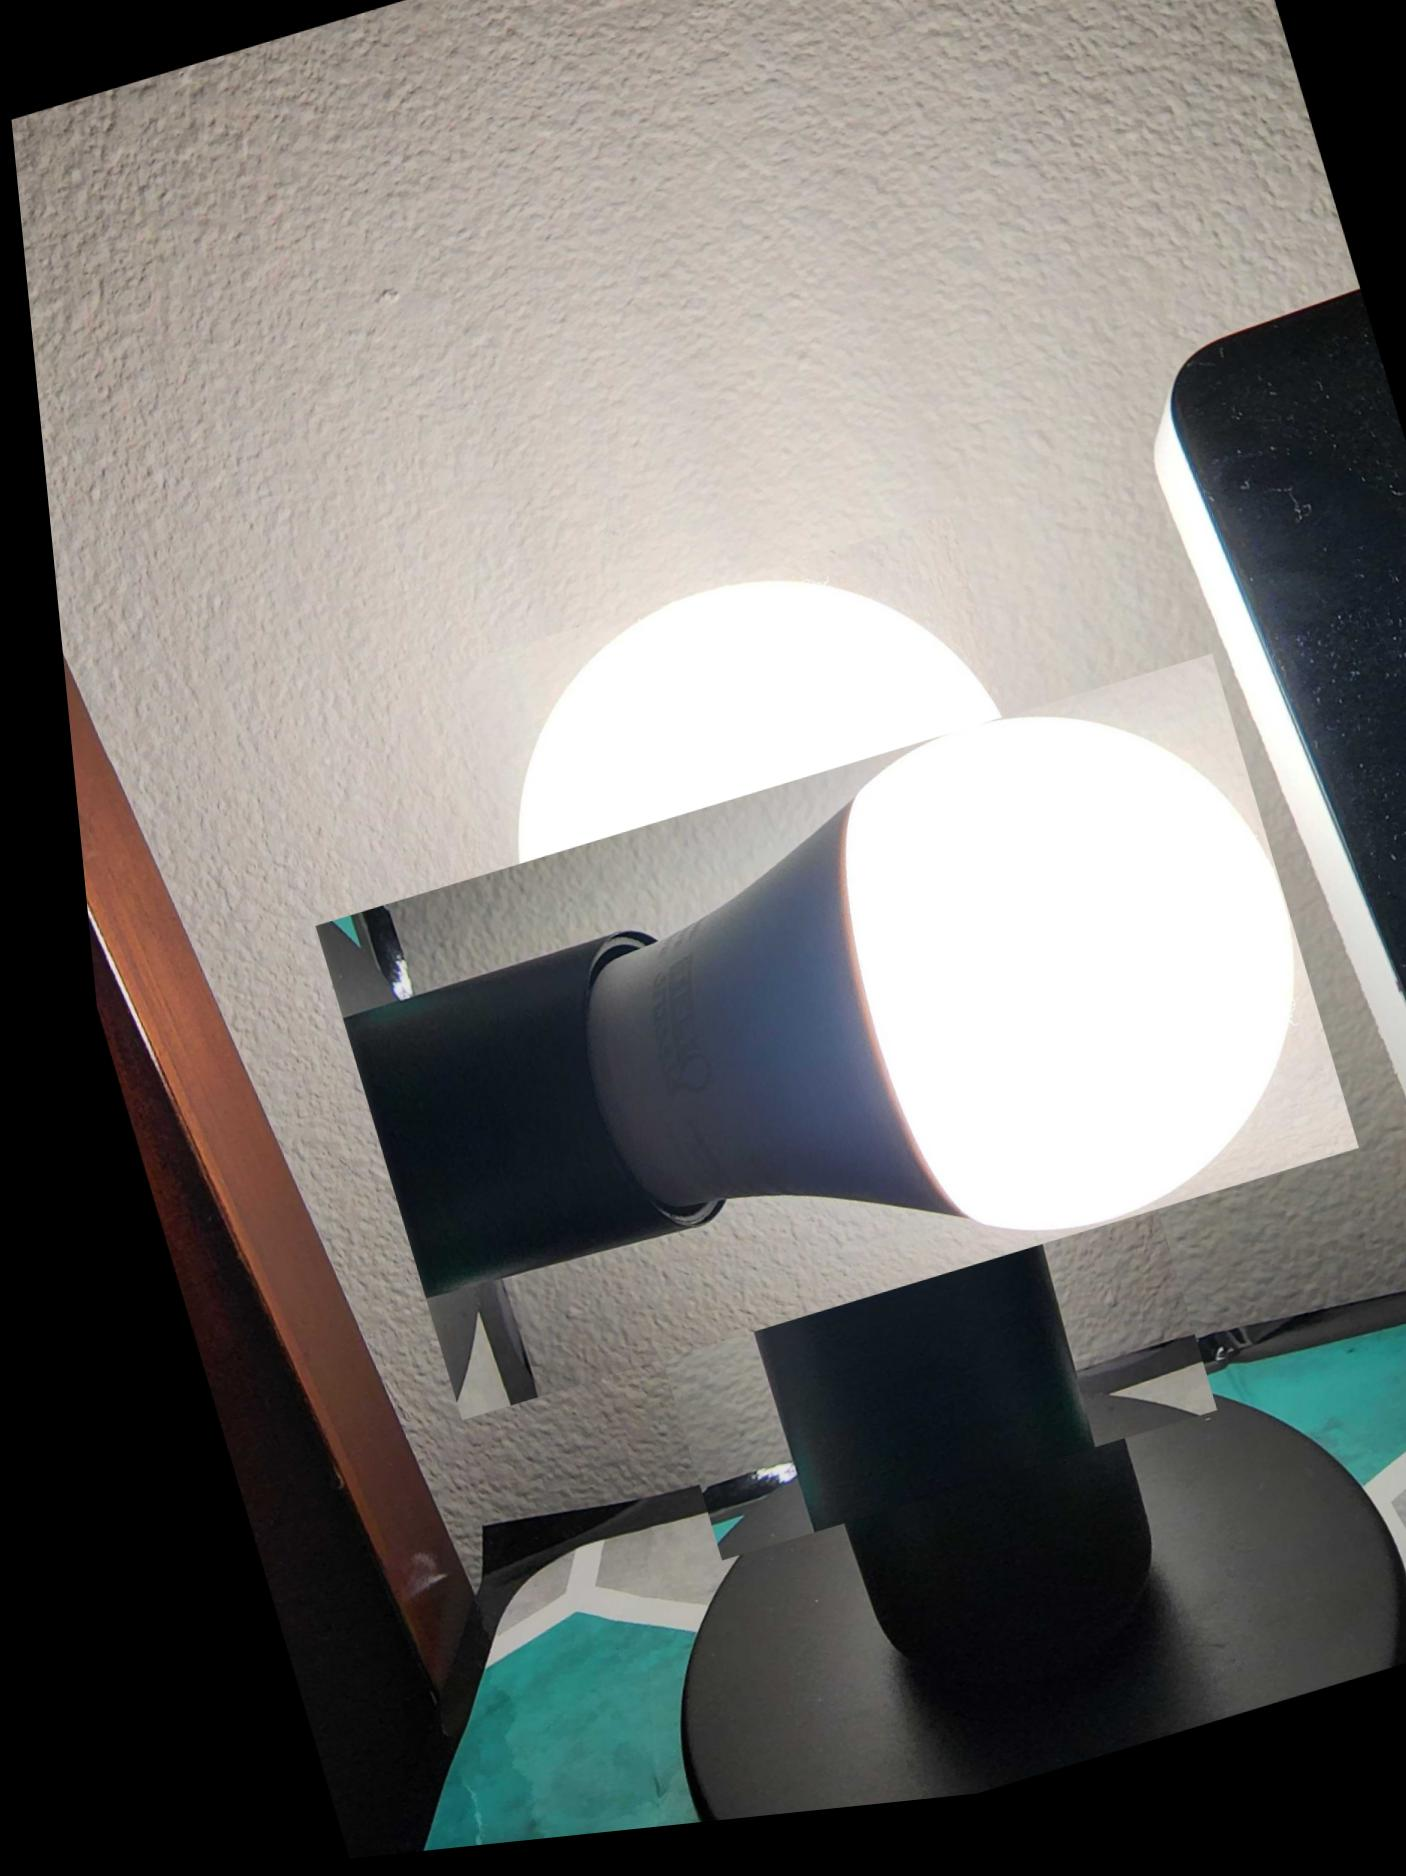TubeLight: (357, 594, 1270, 1511)
